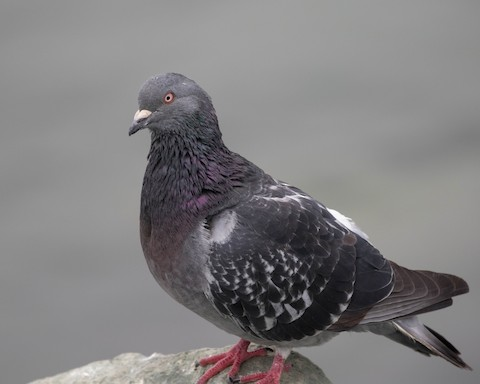pigeon: (124, 65, 472, 380)
